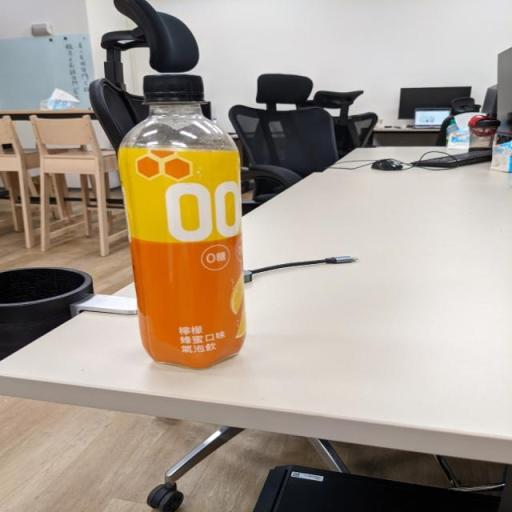plastic: (117, 75, 247, 371)
